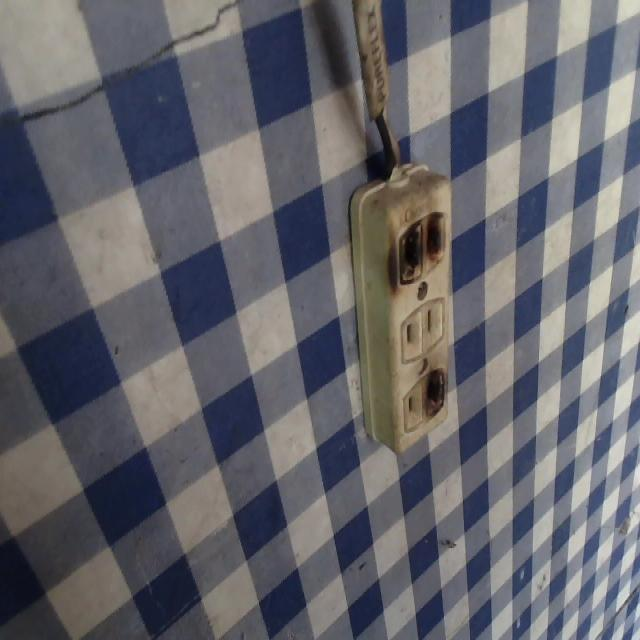-: (384, 204, 447, 287), (417, 363, 452, 420)
